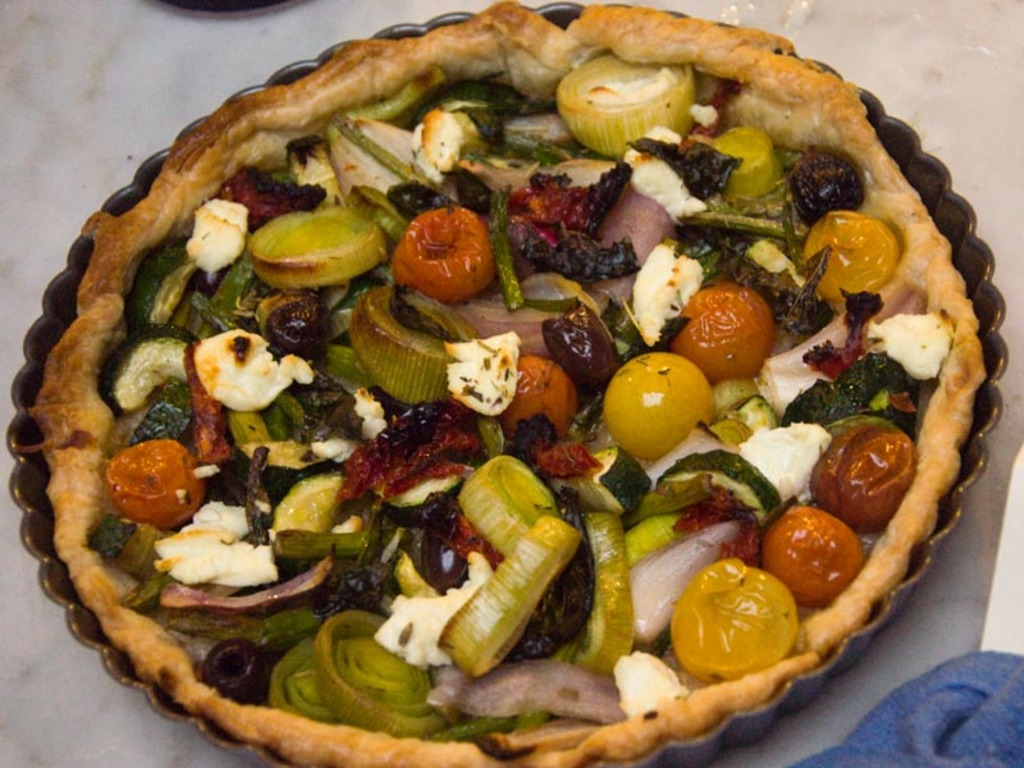Pizza: (66, 51, 921, 768)
